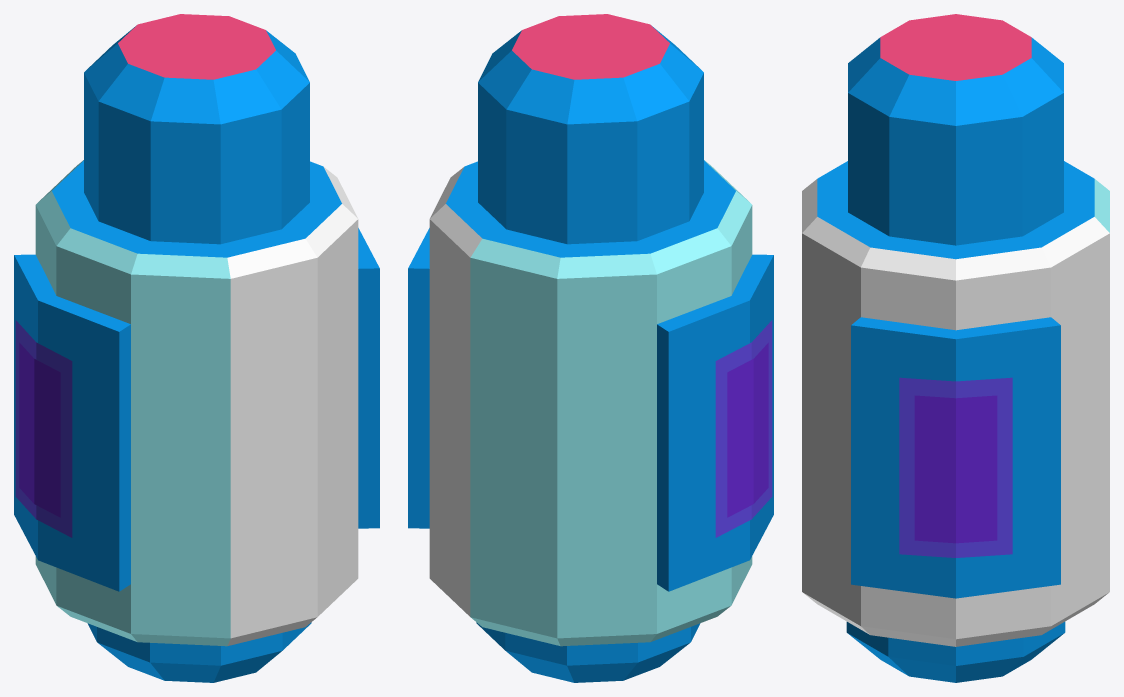
The model's file is Aircraft_030.fbx.
The picture shows the model from 3 angles, left to right: view 1: azimuth 30°, elevation 25°; view 2: azimuth 150°, elevation 25°; view 3: azimuth 270°, elevation 25°; orthographic projection.
Parts seen in each view (by area): view 1: Aircraft_030; view 2: Aircraft_030; view 3: Aircraft_030.
Boxes of the visible parts, bbox=[...] form: Aircraft_030: bbox=[14, 14, 379, 682]; Aircraft_030: bbox=[408, 14, 773, 682]; Aircraft_030: bbox=[802, 14, 1109, 682].
Bounding box in the file's own units: 2.44 × 4.32 × 2.
